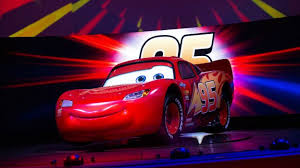mcqueen: (55, 56, 236, 146)
